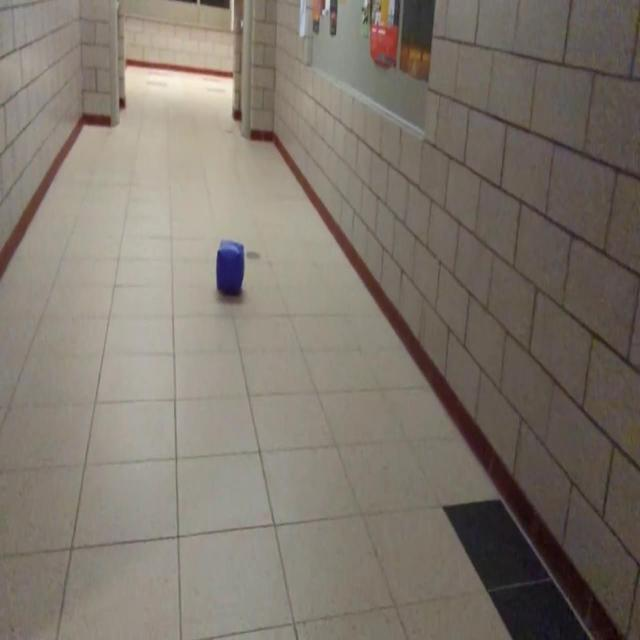frc_cube: (216, 239, 246, 295)
